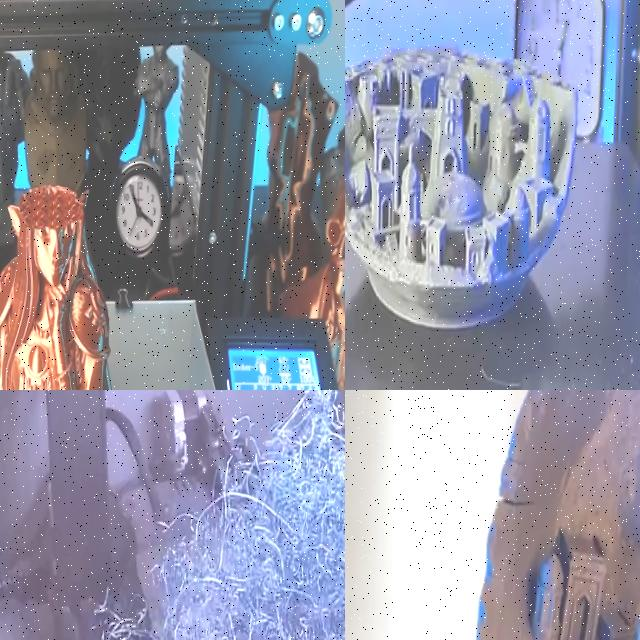spaghetti: (42, 390, 345, 640)
